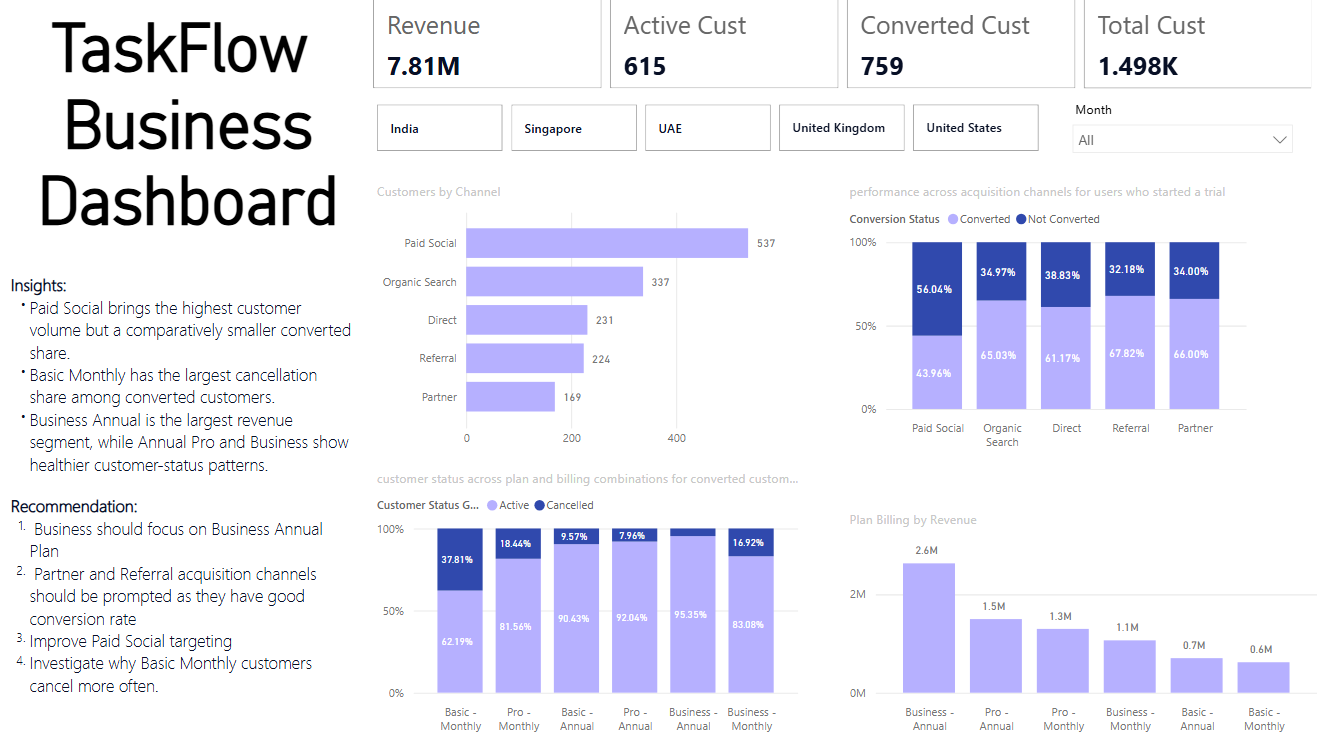

The page's visual inventory and layout, read from the dashboard file:
{"tool":"powerbi","page":{"name":"Dashboard","canvas":[1280,720],"ordinal":0},"visuals":[{"type":"cardVisual","fields":{"Data":["Sum(Raw_Data.Revenue to Date)","Sum(Raw_Data.Active Customer)","Sum(Raw_Data.Converted Customer)","CountNonNull(Raw_Data.Customer ID)"]},"box":[360.7,0,915.9,97.8],"z":0},{"type":"clusteredBarChart","title":"Customers by Channel","fields":{"Category":["Raw_Data.Acquisition Channel"],"Y":["CountNonNull(Raw_Data.Customer ID)"]},"box":[364.4,183.4,404.8,262.9],"z":1},{"type":"hundredPercentStackedColumnChart","title":"performance across acquisition channels for users who started a trial","fields":{"Category":["Raw_Data.Acquisition Channel"],"Series":["Raw_Data.Conversion Status"],"Y":["CountNonNull(Raw_Data.Customer ID)"]},"box":[819.3,183.4,392.5,264.1],"z":2},{"type":"hundredPercentStackedColumnChart","title":"customer status across plan and billing combinations for converted customers.","fields":{"Category":["Raw_Data.Plan Billing"],"Series":["Raw_Data.Customer Status Group"],"Y":["CountNonNull(Raw_Data.Customer ID)"]},"box":[364.4,458.6,415.8,261.7],"z":3},{"type":"clusteredColumnChart","title":"Plan Billing by Revenue","fields":{"Category":["Raw_Data.Plan Billing"],"Y":["Sum(Raw_Data.Revenue to Date)"]},"box":[819.3,497.7,461,222.6],"z":4},{"type":"advancedSlicerVisual","fields":{"Values":["Raw_Data.Country"]},"box":[364.4,102.7,651.8,55],"z":5},{"type":"slicer","fields":{"Values":["Raw_Data.Signup Date.Variation.Date Hierarchy.Month"]},"box":[1028.4,99,232.3,63.6],"z":6},{"type":"textbox","box":[25.7,9.8,325.3,242.1],"z":7},{"type":"textbox","box":[12.2,264.1,338.7,436.6],"z":8}]}

Visuals, with their boxes in screenshot pixels (x1, y1, x2, y2), scaled from the page's 1280x720 canvas onto the 1317x737 screenshot:
cardVisual - Sum(Raw_Data.Revenue to Date) x Sum(Raw_Data.Active Customer): x1=371 y1=0 x2=1314 y2=100
"Customers by Channel" clusteredBarChart: x1=375 y1=188 x2=791 y2=457
"performance across acquisition channels for users who started a trial" hundredPercentStackedColumnChart: x1=843 y1=188 x2=1247 y2=458
"customer status across plan and billing combinations for converted customers." hundredPercentStackedColumnChart: x1=375 y1=469 x2=803 y2=736
"Plan Billing by Revenue" clusteredColumnChart: x1=843 y1=509 x2=1316 y2=736
advancedSlicerVisual - Raw_Data.Country: x1=375 y1=105 x2=1046 y2=161
slicer - Raw_Data.Signup Date.Variation.Date Hierarchy.Month: x1=1058 y1=101 x2=1297 y2=166
textbox: x1=26 y1=10 x2=361 y2=258
textbox: x1=13 y1=270 x2=361 y2=717
